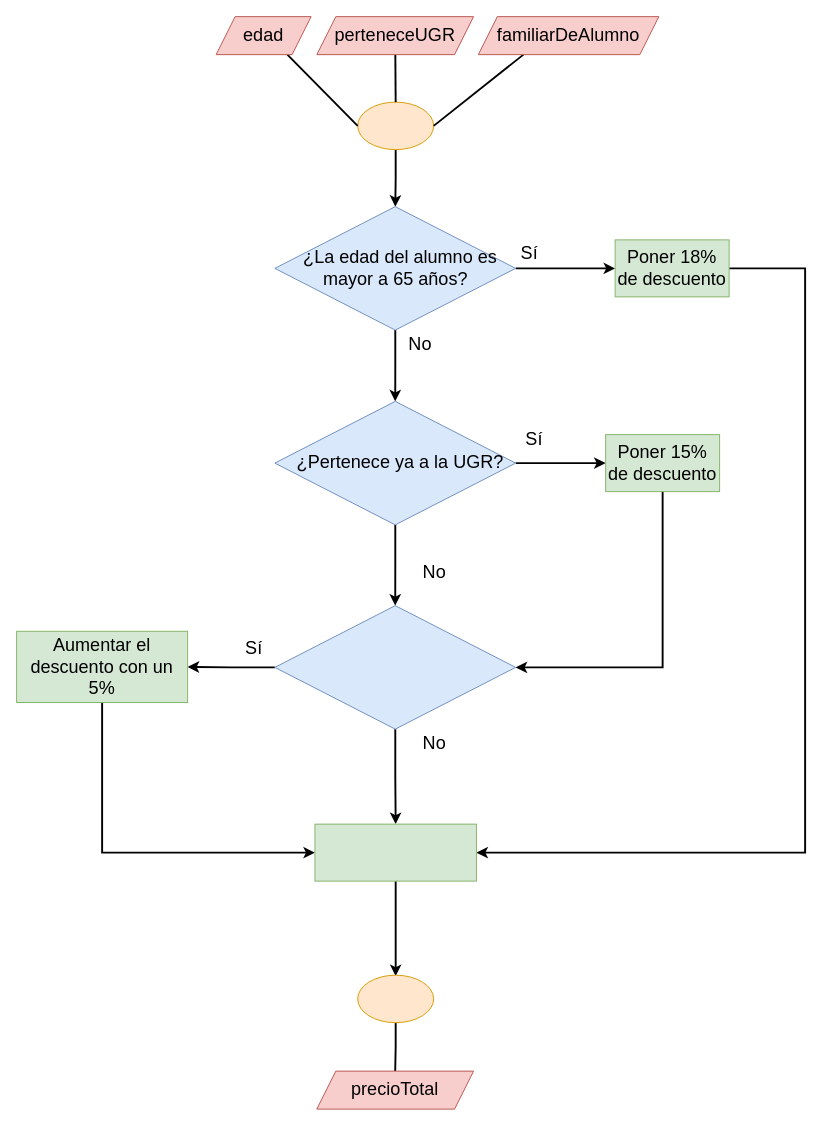
The diagram is 830 pixels wide and 1126 high, and some of its shapes have lost their labels. Each missing label, with the centre of its shape:
"Aplicar descuento total al precio" goes at [395,852].
"Fin" goes at [395,998].
"Inicio" goes at [395,125].
"¿Tiene algún familiar en la UGR?" goes at [395,667].
